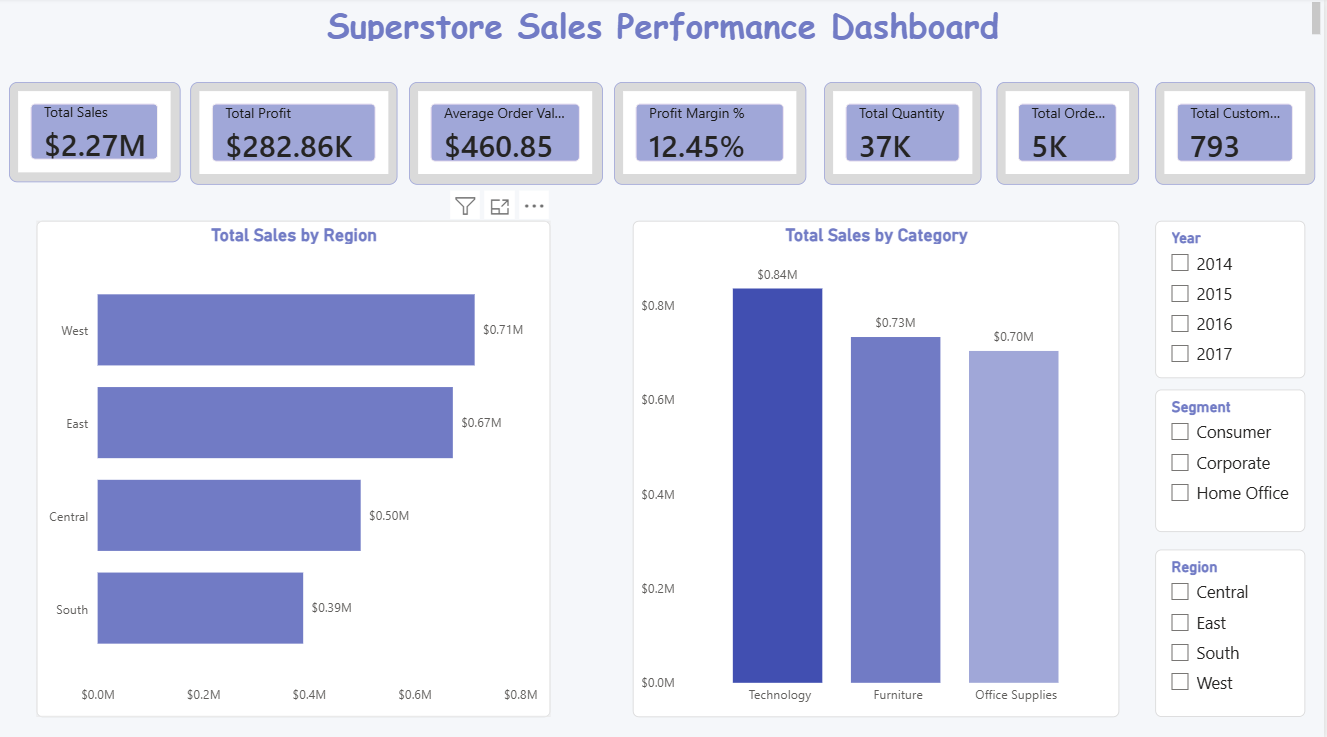

This screenshot's page, from the dashboard's own definition file:
{"tool":"powerbi","page":{"name":"Overview","canvas":[1280,720],"ordinal":0},"visuals":[{"type":"textbox","box":[9.8,0,1270.4,47.8],"z":0},{"type":"cardVisual","fields":{"Data":["Measures (2).Total Sales"]},"box":[9.7,82,165.3,96.5],"z":1000},{"type":"cardVisual","fields":{"Data":["Measures (2).Total Profit"]},"box":[184.6,82,200.3,98.9],"z":2000},{"type":"cardVisual","fields":{"Data":["Measures (2).Total Orders"]},"box":[962.7,82,137.5,98.9],"z":3000},{"type":"cardVisual","fields":{"Data":["Measures (2).Total Customers"]},"box":[1116,82,154.4,98.9],"z":4000},{"type":"cardVisual","fields":{"Data":["Measures (2).Total Quantity"]},"box":[796.3,82,152,98.9],"z":5000},{"type":"cardVisual","fields":{"Data":["Measures (2).Average Order Value"]},"box":[395.7,82,187,98.9],"z":6000},{"type":"cardVisual","fields":{"Data":["Measures (2).Profit Margin %"]},"box":[593.6,82,185.8,98.9],"z":7000},{"type":"clusteredColumnChart","fields":{"Category":["order_clean.Category"],"Y":["Measures (2).Total Sales"]},"box":[611.7,216,469.3,479],"z":8000},{"type":"clusteredBarChart","fields":{"Category":["order_clean.Region"],"Y":["Measures (2).Total Sales"]},"box":[36.2,216,495.8,479],"z":9000},{"type":"slicer","fields":{"Values":["Date Table.Year"]},"box":[1116,216,144.8,152],"z":10000},{"type":"slicer","fields":{"Values":["order_clean.Region"]},"box":[1116,533.2,144.8,161.7],"z":11000},{"type":"slicer","fields":{"Values":["order_clean.Segment"]},"box":[1116,378.8,144.8,137.5],"z":12000}]}

Visuals, with their boxes in screenshot pixels (x1, y1, x2, y2), scaled from the page's 1280x720 canvas onto the 1327x737 screenshot:
textbox: {"left": 10, "top": 0, "right": 1326, "bottom": 49}
cardVisual - Measures (2).Total Sales: {"left": 10, "top": 84, "right": 181, "bottom": 183}
cardVisual - Measures (2).Total Profit: {"left": 191, "top": 84, "right": 399, "bottom": 185}
cardVisual - Measures (2).Total Orders: {"left": 998, "top": 84, "right": 1141, "bottom": 185}
cardVisual - Measures (2).Total Customers: {"left": 1157, "top": 84, "right": 1317, "bottom": 185}
cardVisual - Measures (2).Total Quantity: {"left": 826, "top": 84, "right": 983, "bottom": 185}
cardVisual - Measures (2).Average Order Value: {"left": 410, "top": 84, "right": 604, "bottom": 185}
cardVisual - Measures (2).Profit Margin %: {"left": 615, "top": 84, "right": 808, "bottom": 185}
clusteredColumnChart - order_clean.Category x Measures (2).Total Sales: {"left": 634, "top": 221, "right": 1121, "bottom": 711}
clusteredBarChart - order_clean.Region x Measures (2).Total Sales: {"left": 38, "top": 221, "right": 552, "bottom": 711}
slicer - Date Table.Year: {"left": 1157, "top": 221, "right": 1307, "bottom": 377}
slicer - order_clean.Region: {"left": 1157, "top": 546, "right": 1307, "bottom": 711}
slicer - order_clean.Segment: {"left": 1157, "top": 388, "right": 1307, "bottom": 528}
